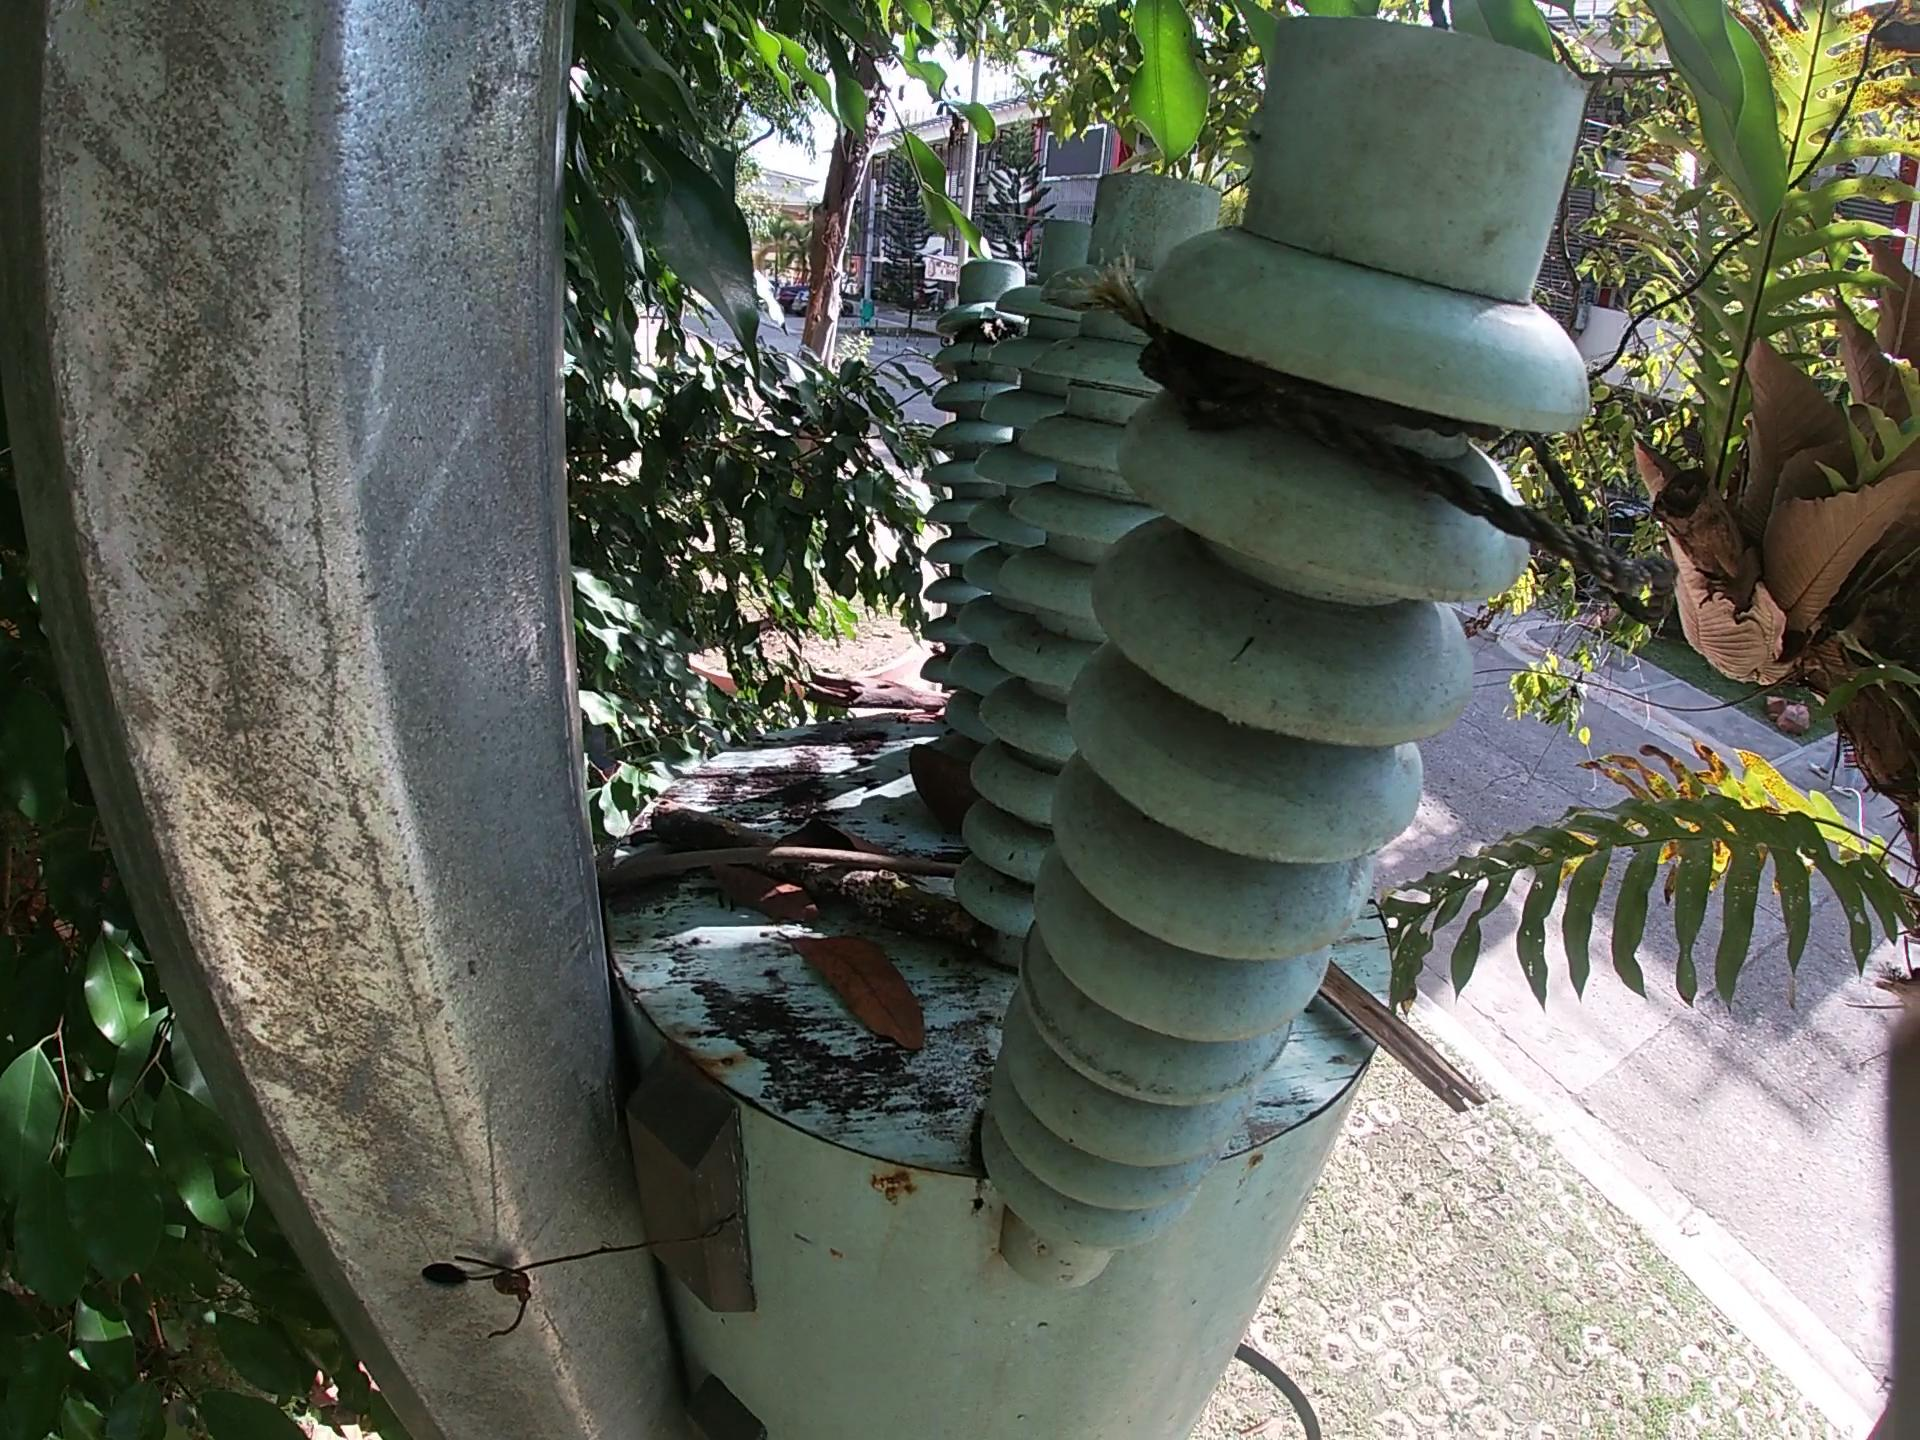leaf: (791, 945, 955, 1048), (705, 885, 812, 927), (776, 812, 890, 843)
mahogany fruit: (904, 750, 975, 796)
tree branch: (639, 800, 1004, 967), (1315, 953, 1491, 1150), (594, 849, 962, 902), (797, 663, 937, 735)
